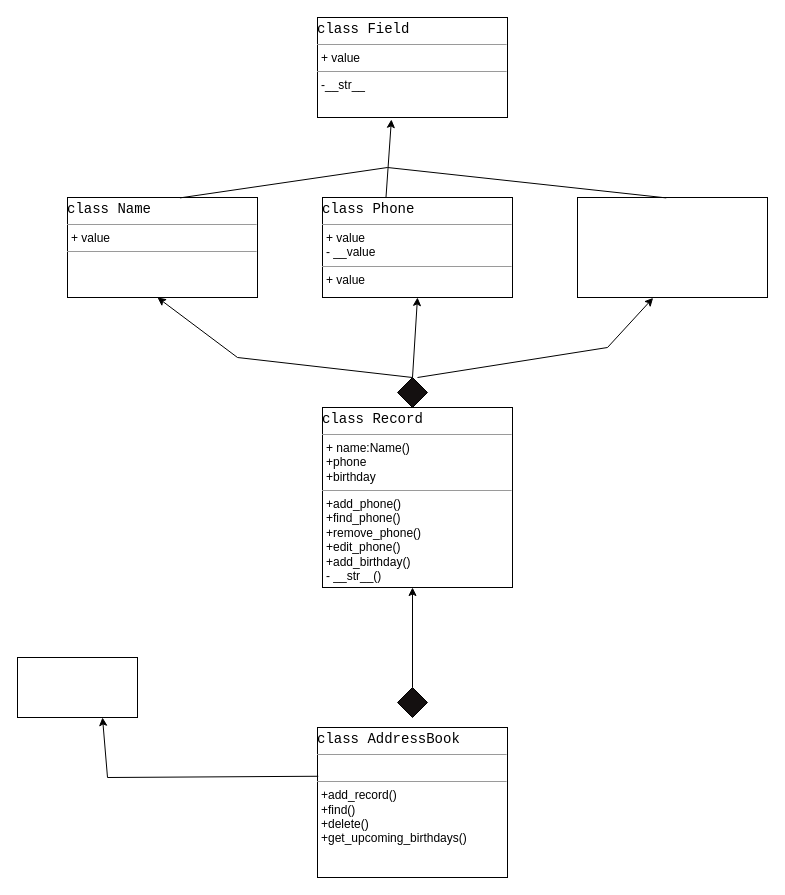
This 785x895 diagram has some shape labels left out. Here are the shapes that lost their labels. From the top down, the centre of each, then its label:
point 672,247: class Birthday + date + __str__
point 77,687: class UserDict
